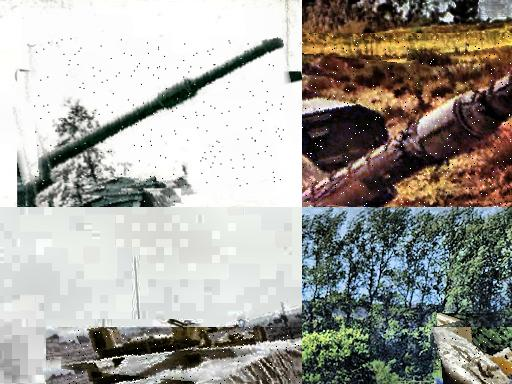tanks: (35, 39, 284, 188), (303, 78, 512, 208), (61, 328, 303, 384), (432, 329, 512, 384), (69, 190, 182, 206)
